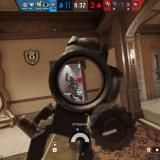Character: (66, 73, 84, 102)
Friend_label: (82, 113, 91, 118)
Head: (70, 76, 73, 82)
